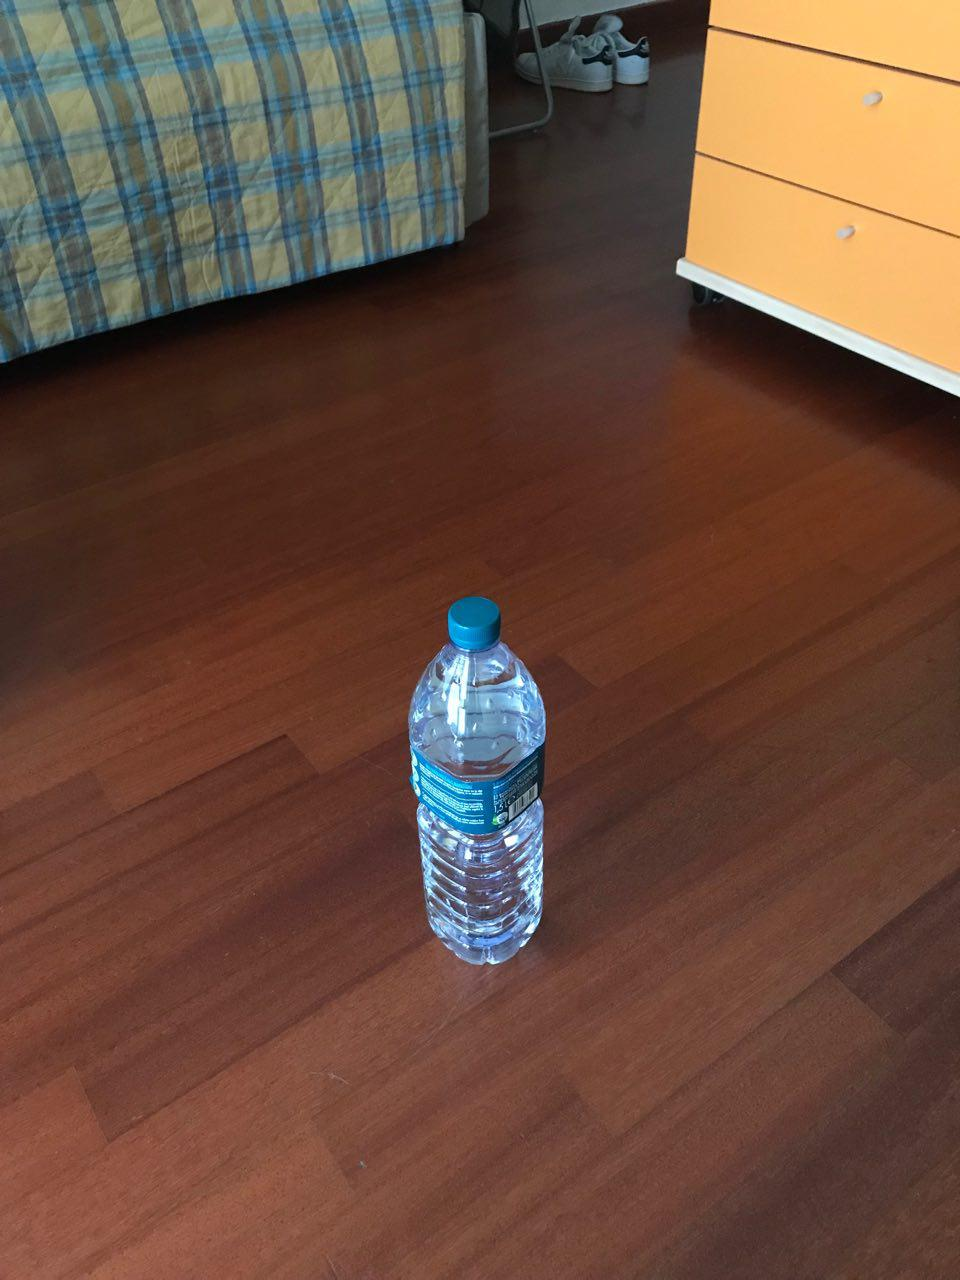san_bernardo: (406, 595, 549, 969)
